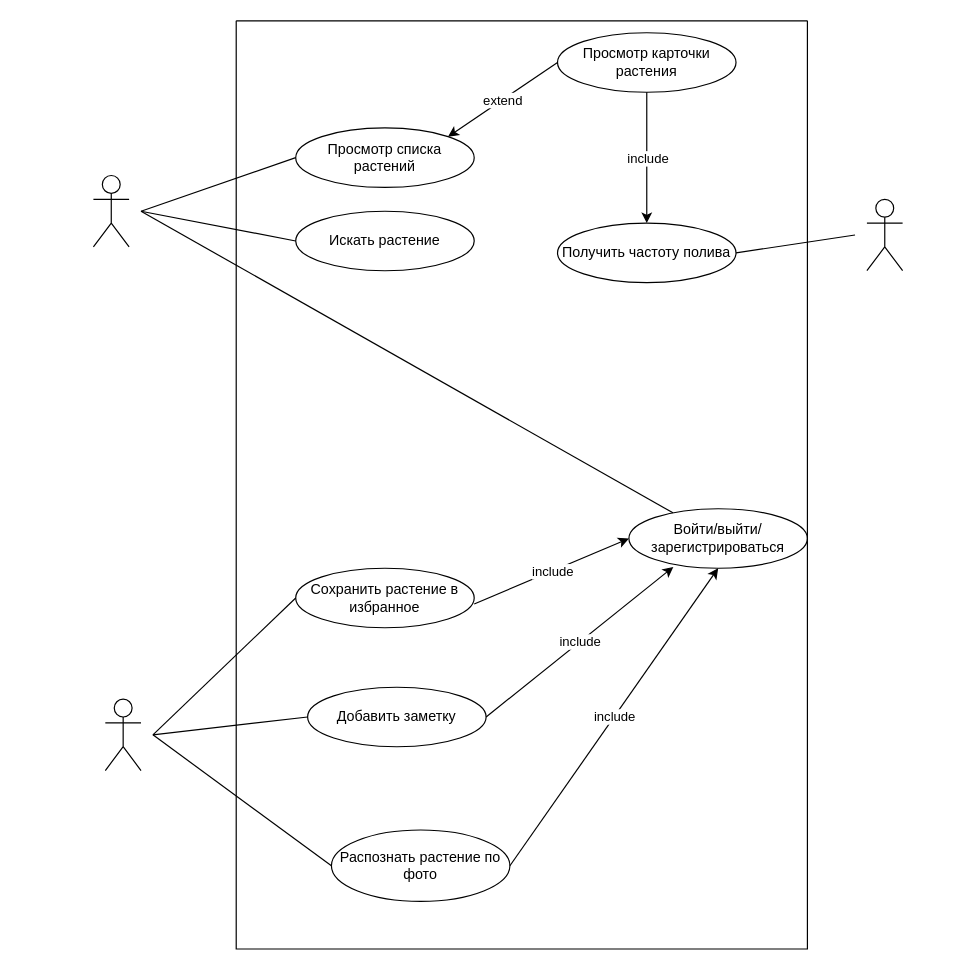
Image size: 960x970. Some labels were removed from this diagram. Each missing label, with the box of its shape:
Авторизованный пользователь: (104, 698, 141, 771)
Внешний сервис: (866, 198, 903, 271)
Гость: (92, 174, 129, 247)
